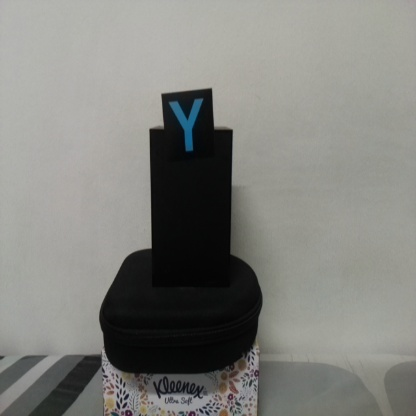id_14: (162, 93, 215, 162)
